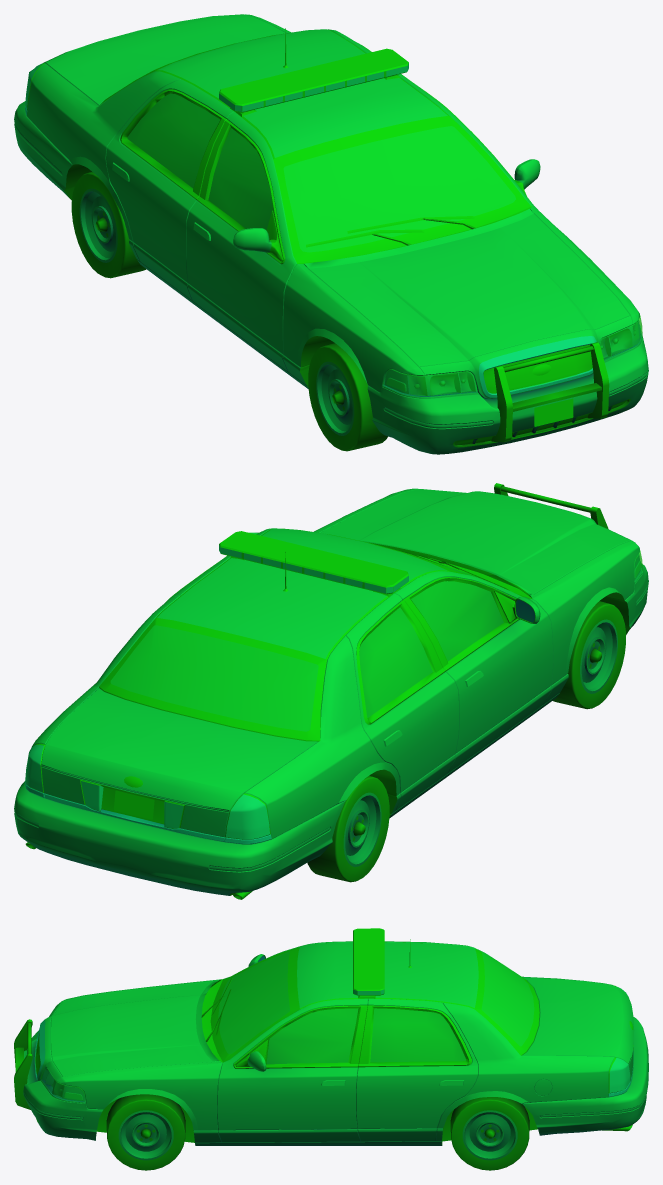
Rendered from props_victory_cop.fbx.
The picture shows the model from 3 angles, top to bottom: view 1: azimuth 30°, elevation 25°; view 2: azimuth 150°, elevation 25°; view 3: azimuth 270°, elevation 25°; orthographic projection. The views are drawn at different scales.
Parts seen in each view (by area): view 1: Body_lod0; view 2: Body_lod0; view 3: Body_lod0.
Part boxes in pixels (box(x1,y1,x2,y2)): Body_lod0: box(14, 14, 648, 454); Body_lod0: box(14, 483, 648, 899); Body_lod0: box(14, 928, 648, 1170).
Size of what is drawn, in the model's own units: 218 by 173 by 538.
